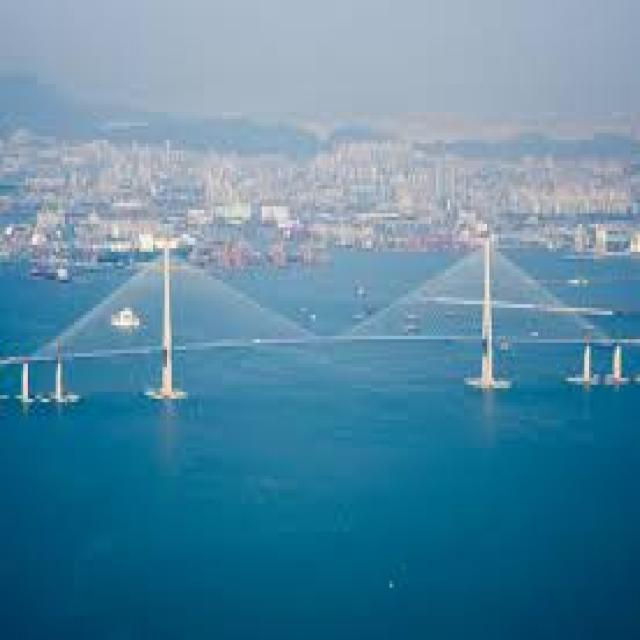Bridges: (3, 210, 640, 436)
